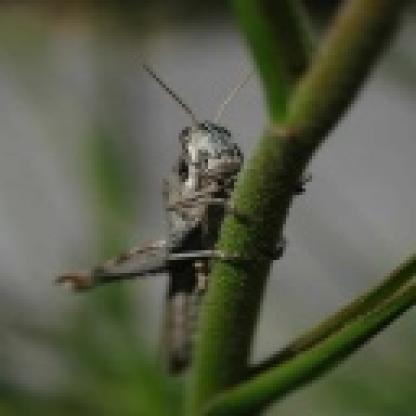grasshopper: (70, 65, 276, 364)
